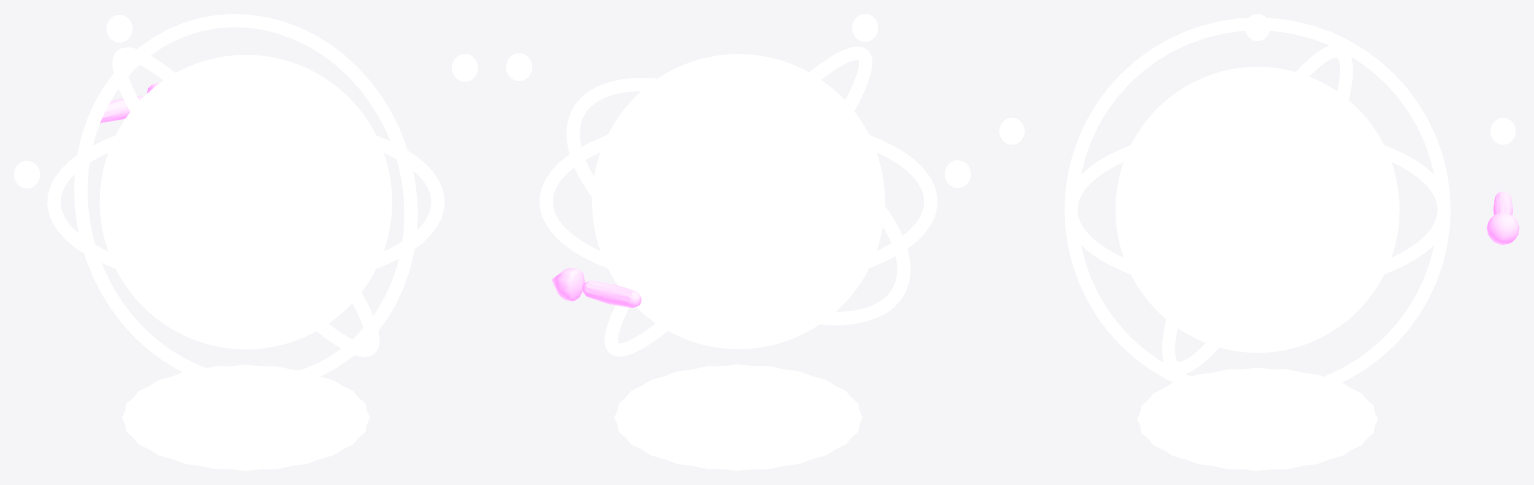
The model's file is v3_new_null_pointer_v3.glb.
3 views of the same model, side by side, from view 1: azimuth 30°, elevation 25°; view 2: azimuth 150°, elevation 25°; view 3: azimuth 270°, elevation 25° (orthographic). The views are drawn at different scales.
Visible parts, largest first — view 1: np_body, np_base, np_r2, np_r1, np_r3, np_p_1, np_p_0, np_p_3, np_p_2, np_arr_shaft; view 2: np_body, np_base, np_r1, np_r2, np_r3, np_arr_shaft, np_arr_head, np_p_0, np_p_1, np_p_2, np_p_3; view 3: np_body, np_base, np_r3, np_r1, np_r2, np_arr_head, np_p_3, np_p_0, np_p_1.
Part boxes in pixels (x1,y1,x2,y2): np_body: (99, 55, 392, 349); np_base: (122, 364, 369, 470); np_r2: (74, 14, 417, 390); np_r1: (47, 136, 444, 289); np_r3: (112, 47, 379, 356); np_p_1: (106, 15, 132, 42); np_p_0: (452, 54, 477, 81); np_p_3: (359, 200, 385, 227); np_p_2: (14, 160, 39, 188); np_arr_shaft: (100, 95, 143, 123); np_body: (592, 54, 884, 348); np_base: (614, 364, 862, 470); np_r1: (539, 135, 937, 289); np_r2: (566, 78, 910, 325); np_r3: (604, 46, 872, 356); np_arr_shaft: (582, 280, 641, 307); np_arr_head: (551, 268, 584, 301); np_p_0: (506, 53, 531, 80); np_p_1: (599, 199, 624, 227); np_p_2: (945, 160, 970, 187); np_p_3: (852, 14, 877, 41); np_body: (1115, 66, 1399, 352); np_base: (1137, 367, 1377, 470); np_r3: (1064, 17, 1450, 401); np_r1: (1064, 145, 1450, 295); np_r2: (1162, 45, 1352, 374); np_arr_head: (1486, 212, 1519, 244); np_p_3: (999, 117, 1024, 144); np_p_0: (1245, 221, 1270, 248); np_p_1: (1490, 117, 1515, 144).
Bounding box in the file's own units: 1.79 × 1.43 × 1.8.
